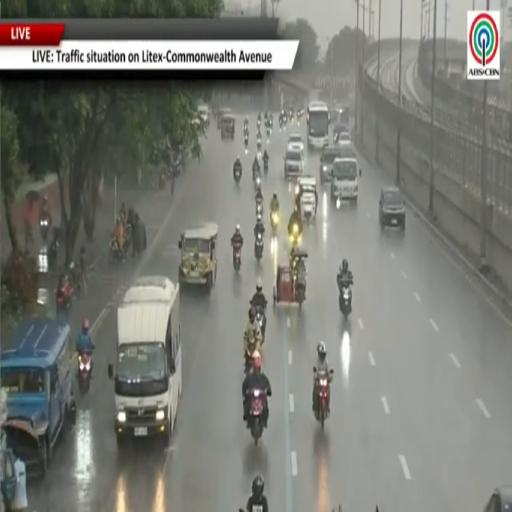bus: (108, 277, 182, 445), (307, 102, 330, 149)
car: (0, 317, 77, 476), (379, 186, 405, 230), (320, 146, 341, 184), (484, 486, 511, 511), (284, 149, 303, 180), (288, 134, 304, 153), (287, 143, 304, 158), (198, 104, 209, 127)
jeepney: (179, 223, 218, 291), (295, 176, 317, 219), (216, 108, 232, 130), (221, 115, 235, 139)
motorcycle: (315, 370, 333, 429), (248, 389, 266, 446), (56, 280, 74, 313), (78, 352, 92, 393), (339, 284, 351, 318), (294, 269, 305, 306), (245, 342, 257, 375), (47, 239, 59, 271), (110, 237, 124, 263), (256, 308, 266, 343), (39, 216, 51, 243), (289, 224, 301, 247), (254, 233, 263, 262), (233, 245, 241, 271), (271, 212, 279, 235), (234, 167, 241, 184), (159, 172, 166, 189), (255, 170, 261, 189), (256, 200, 263, 216), (266, 126, 272, 139), (289, 109, 294, 121), (283, 112, 288, 124), (264, 159, 268, 173), (257, 137, 261, 151), (279, 118, 283, 131), (245, 134, 248, 149), (257, 120, 260, 130)
tricycle: (273, 248, 308, 308)
